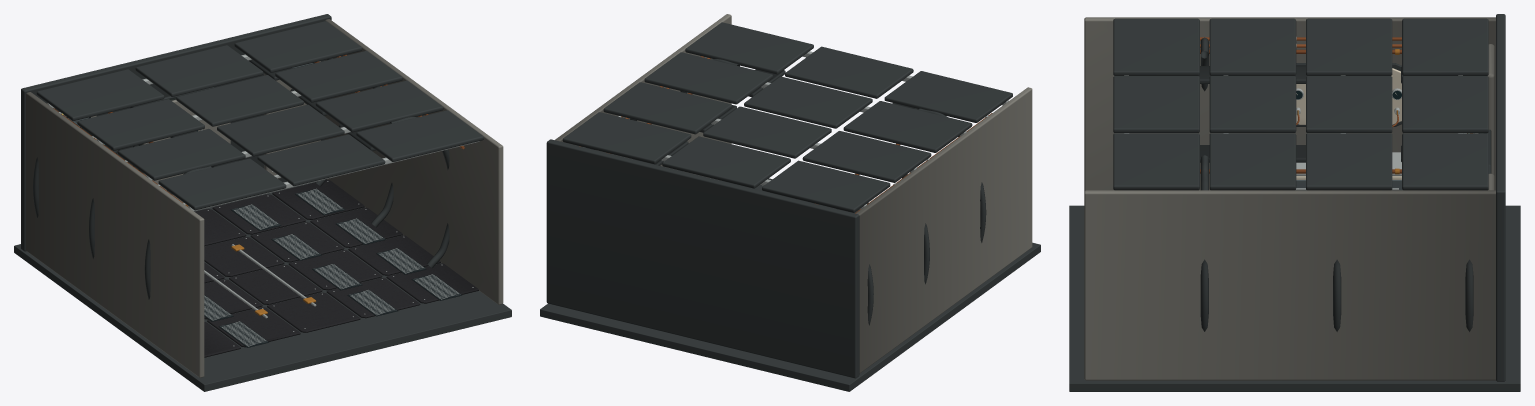
File: shell-standard.glb
The picture shows the model from 3 angles, left to right: view 1: azimuth 30°, elevation 25°; view 2: azimuth 150°, elevation 25°; view 3: azimuth 270°, elevation 25°; orthographic projection. The views are drawn at different scales.
Visible parts, largest first — view 1: shell__Coated pressure frame, shell__Graphite enamel, shell__Anodized deck alloy, shell__Satin aluminium, shell__Recessed titanium panels, shell__Recess and gasket; view 2: shell__Coated pressure frame, shell__Graphite enamel; view 3: shell__Graphite enamel, shell__Coated pressure frame, shell__Ceramic medical shell, shell__Satin aluminium, shell__Copper utility conduit.
Part boxes in pixels (x1,y1,x2,y2): shell__Coated pressure frame: (14, 14, 511, 391); shell__Graphite enamel: (26, 19, 503, 377); shell__Anodized deck alloy: (195, 179, 478, 357); shell__Satin aluminium: (47, 54, 479, 346); shell__Recessed titanium panels: (68, 63, 460, 345); shell__Recess and gasket: (66, 62, 462, 347); shell__Coated pressure frame: (540, 22, 1040, 391); shell__Graphite enamel: (555, 14, 1032, 373); shell__Graphite enamel: (1084, 17, 1495, 380); shell__Coated pressure frame: (1069, 14, 1520, 391); shell__Ceramic medical shell: (1296, 68, 1401, 179); shell__Satin aluminium: (1123, 37, 1466, 189); shell__Copper utility conduit: (1200, 37, 1401, 173).
Bounding box in the file's own units: 7.1 × 3.69 × 7.5.
16 materials, 1 textured.
